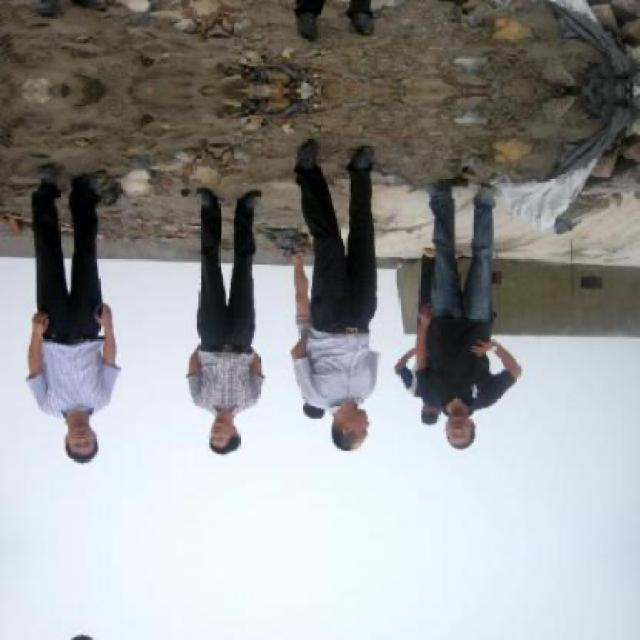sin casco: (291, 388, 384, 462), (178, 391, 268, 466), (28, 419, 113, 497), (441, 379, 523, 451)
